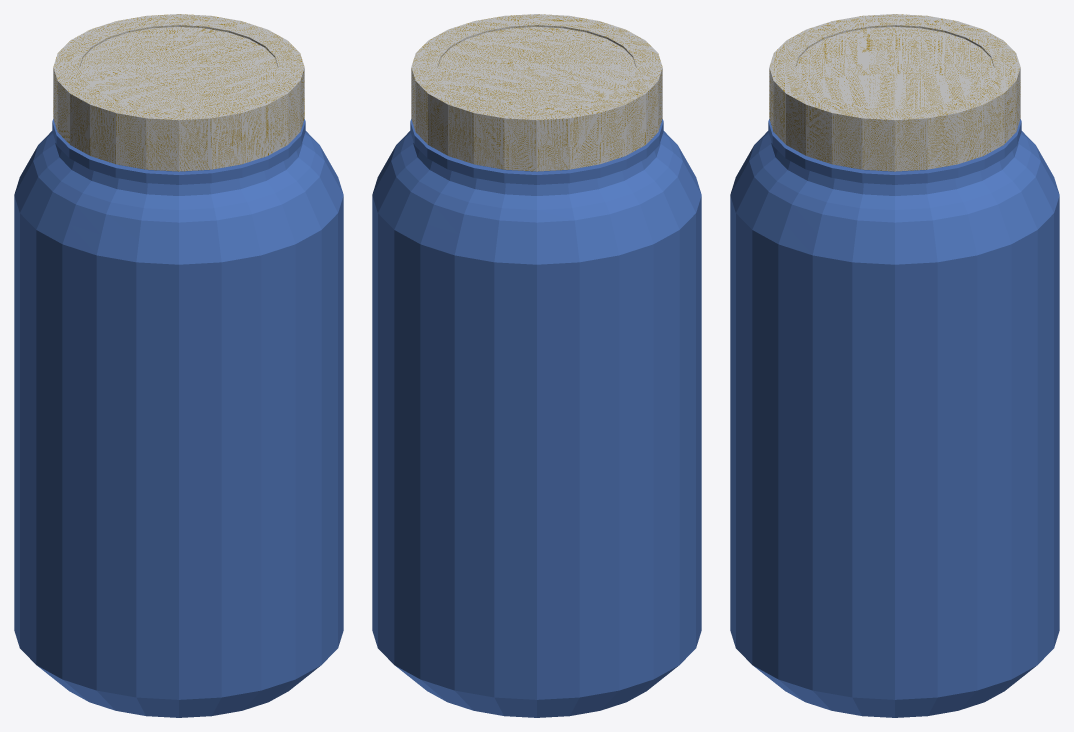
3 views of the same model, side by side, from view 1: azimuth 30°, elevation 25°; view 2: azimuth 150°, elevation 25°; view 3: azimuth 270°, elevation 25° (orthographic).
Visible parts, largest first — view 1: mesh1_mesh1-geometry; view 2: mesh1_mesh1-geometry; view 3: mesh1_mesh1-geometry.
Part boxes in pixels (x1,y1,x2,y2): mesh1_mesh1-geometry: [14, 14, 343, 717]; mesh1_mesh1-geometry: [372, 14, 701, 717]; mesh1_mesh1-geometry: [730, 14, 1059, 717].
Bounding box in the file's own units: 0.4082 × 0.8165 × 0.4082.
